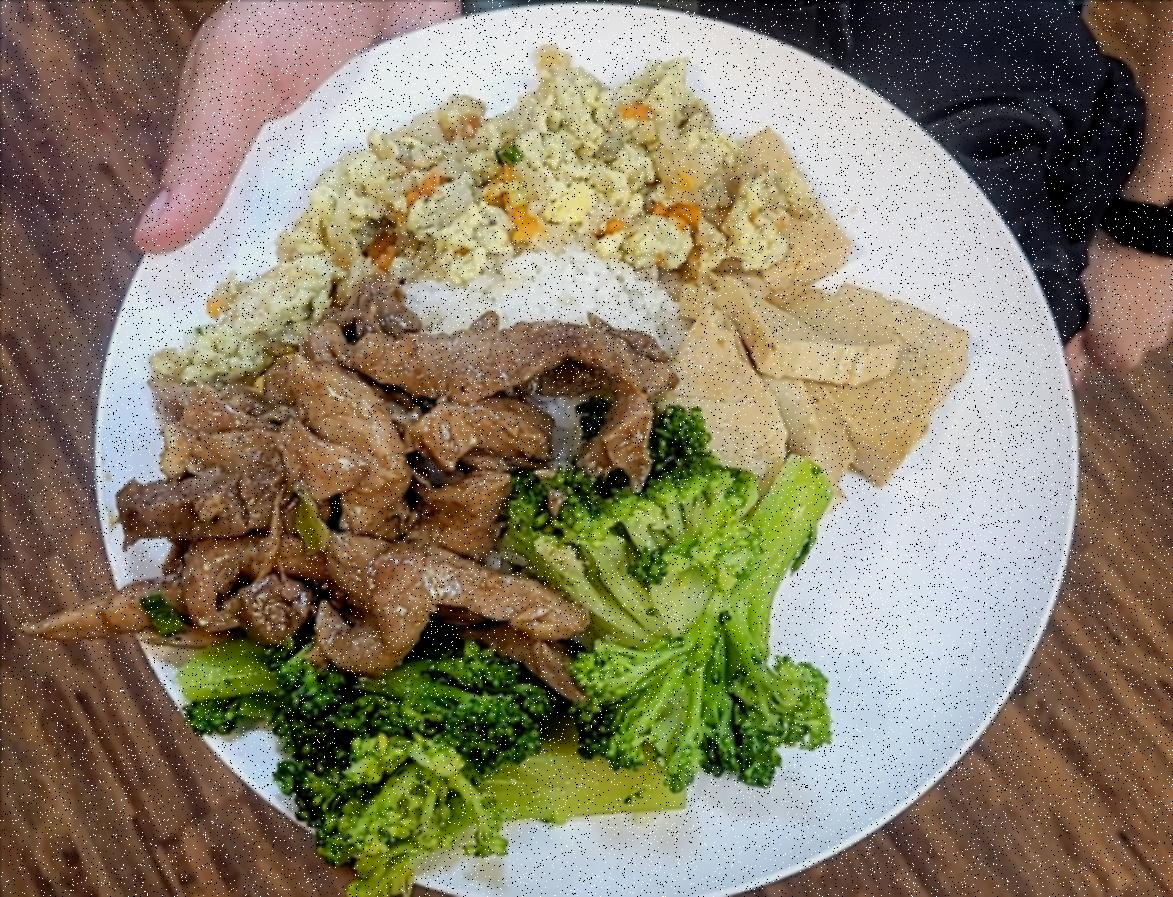plate: (72, 8, 1092, 897)
shacha pork: (94, 305, 658, 642)
side dish: (182, 456, 846, 870), (222, 48, 756, 338), (677, 130, 950, 490)
white rice: (373, 242, 692, 490)
